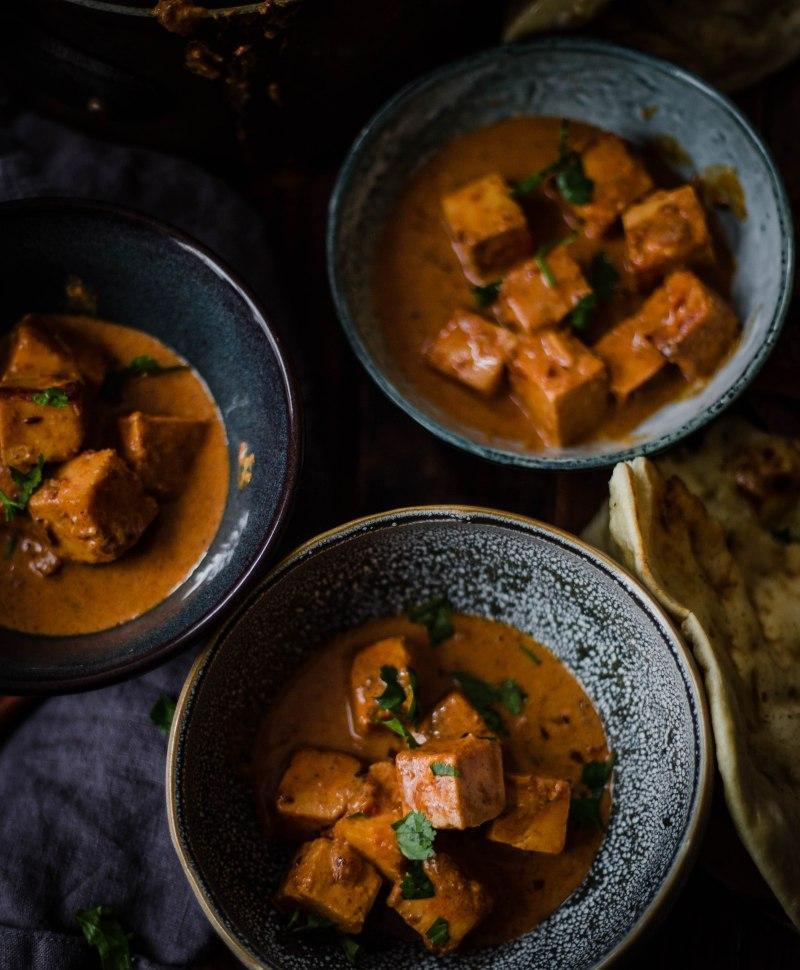paneer: (434, 161, 707, 380), (314, 668, 554, 874)
